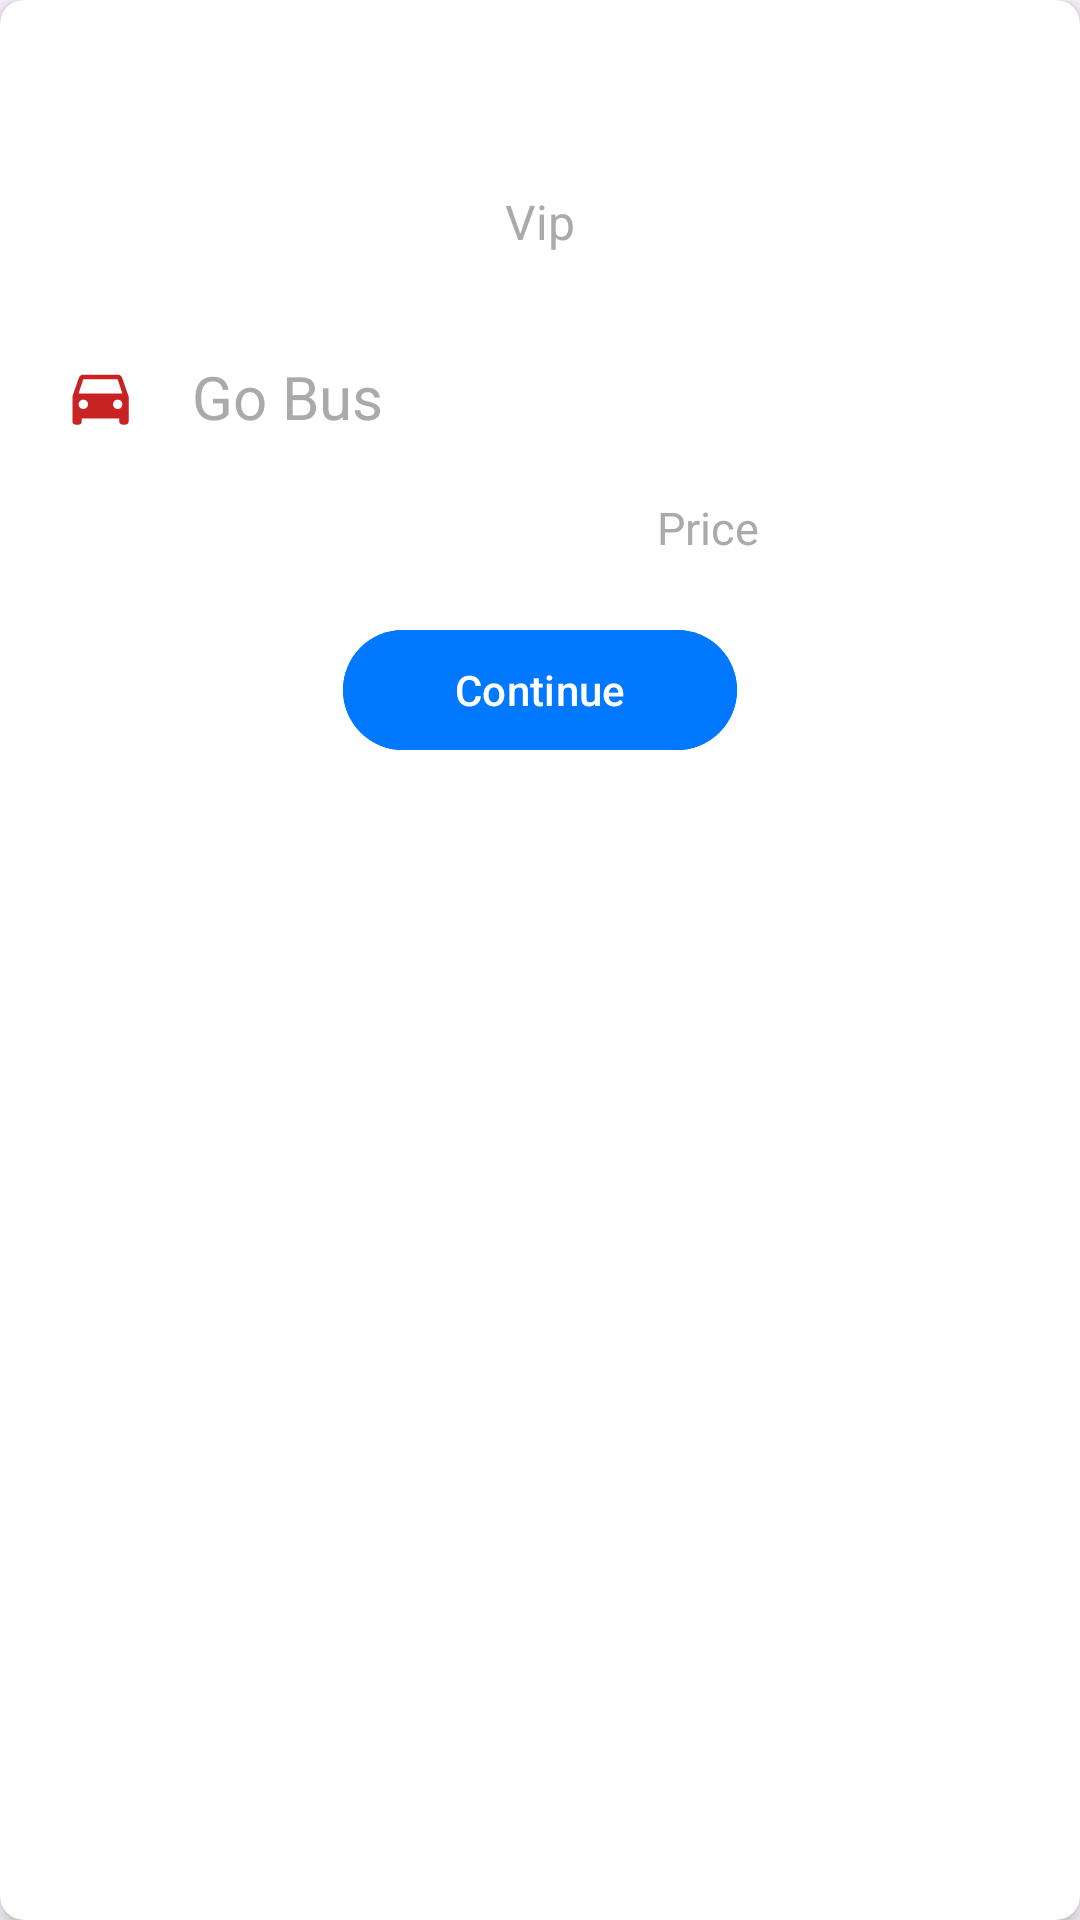

Where to tap for icons on this 1080*1920 app screen, as point (x, y):
directions car: point (100, 399)
